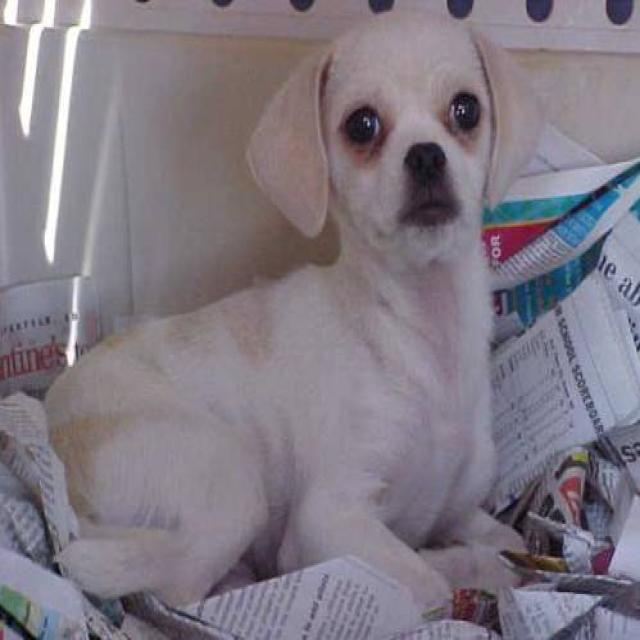dog: (41, 4, 543, 636)
